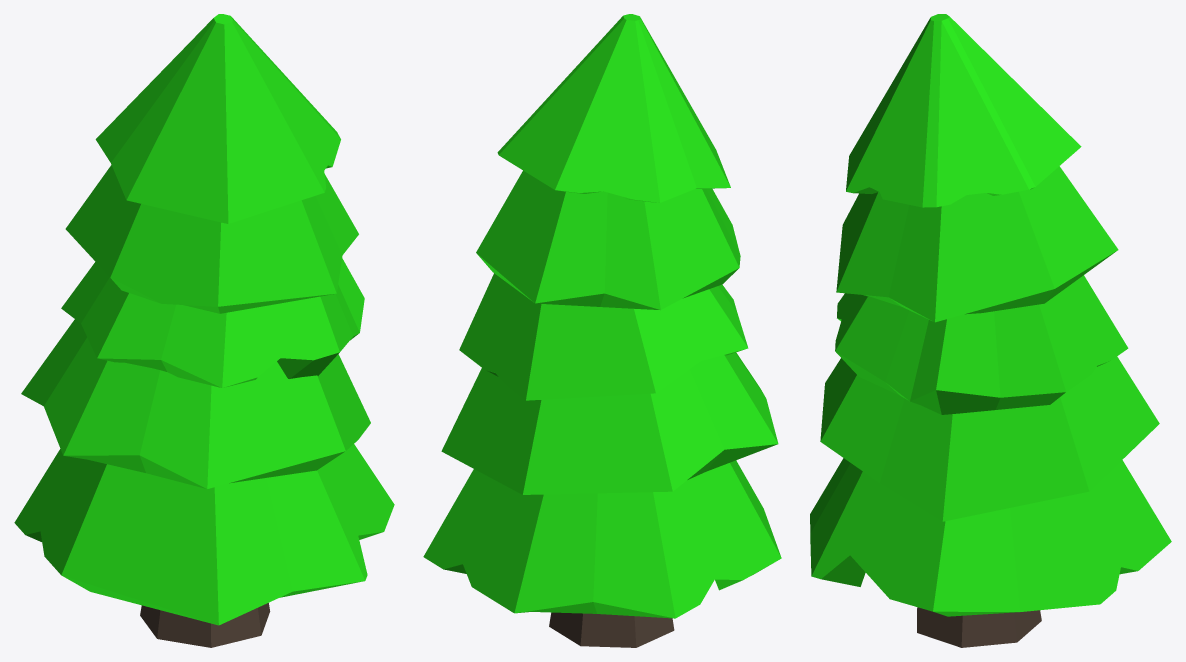
File: NewYearTree 1.fbx
The picture shows the model from 3 angles, left to right: view 1: azimuth 30°, elevation 25°; view 2: azimuth 150°, elevation 25°; view 3: azimuth 270°, elevation 25°; orthographic projection. The views are drawn at different scales.
Visible parts, largest first — view 1: Cylinder.001, Cylinder.002, Cylinder.005, Cylinder.004, Cylinder.003, Cylinder; view 2: Cylinder.001, Cylinder.002, Cylinder.004, Cylinder.005, Cylinder.003, Cylinder; view 3: Cylinder.001, Cylinder.002, Cylinder.004, Cylinder.005, Cylinder.003, Cylinder.
Boxes of the visible parts, x1,y1,x2,y2 form: Cylinder.001: (14, 444, 394, 625); Cylinder.002: (21, 319, 370, 489); Cylinder.005: (95, 14, 340, 223); Cylinder.004: (65, 165, 358, 313); Cylinder.003: (61, 258, 364, 387); Cylinder: (140, 603, 270, 647); Cylinder.001: (423, 460, 781, 618); Cylinder.002: (441, 352, 778, 494); Cylinder.004: (476, 170, 740, 309); Cylinder.005: (497, 14, 730, 202); Cylinder.003: (459, 273, 748, 400); Cylinder: (549, 612, 674, 647); Cylinder.001: (810, 458, 1171, 616); Cylinder.002: (820, 356, 1159, 521); Cylinder.004: (836, 166, 1118, 322); Cylinder.005: (846, 14, 1081, 208); Cylinder.003: (835, 275, 1128, 414); Cylinder: (917, 607, 1041, 647).
Size of the model in its own units: 314 by 566 by 307.
Materials: 2 (2 with a texture image).
